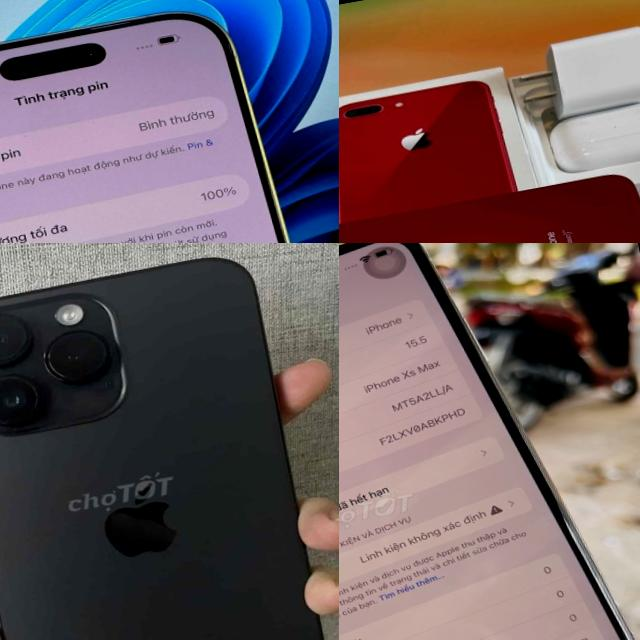gen_14: (0, 243, 339, 640)
gen_17: (0, 0, 339, 243)
gen_7_8: (339, 165, 640, 243)
gen_x_xs: (339, 243, 633, 640)
